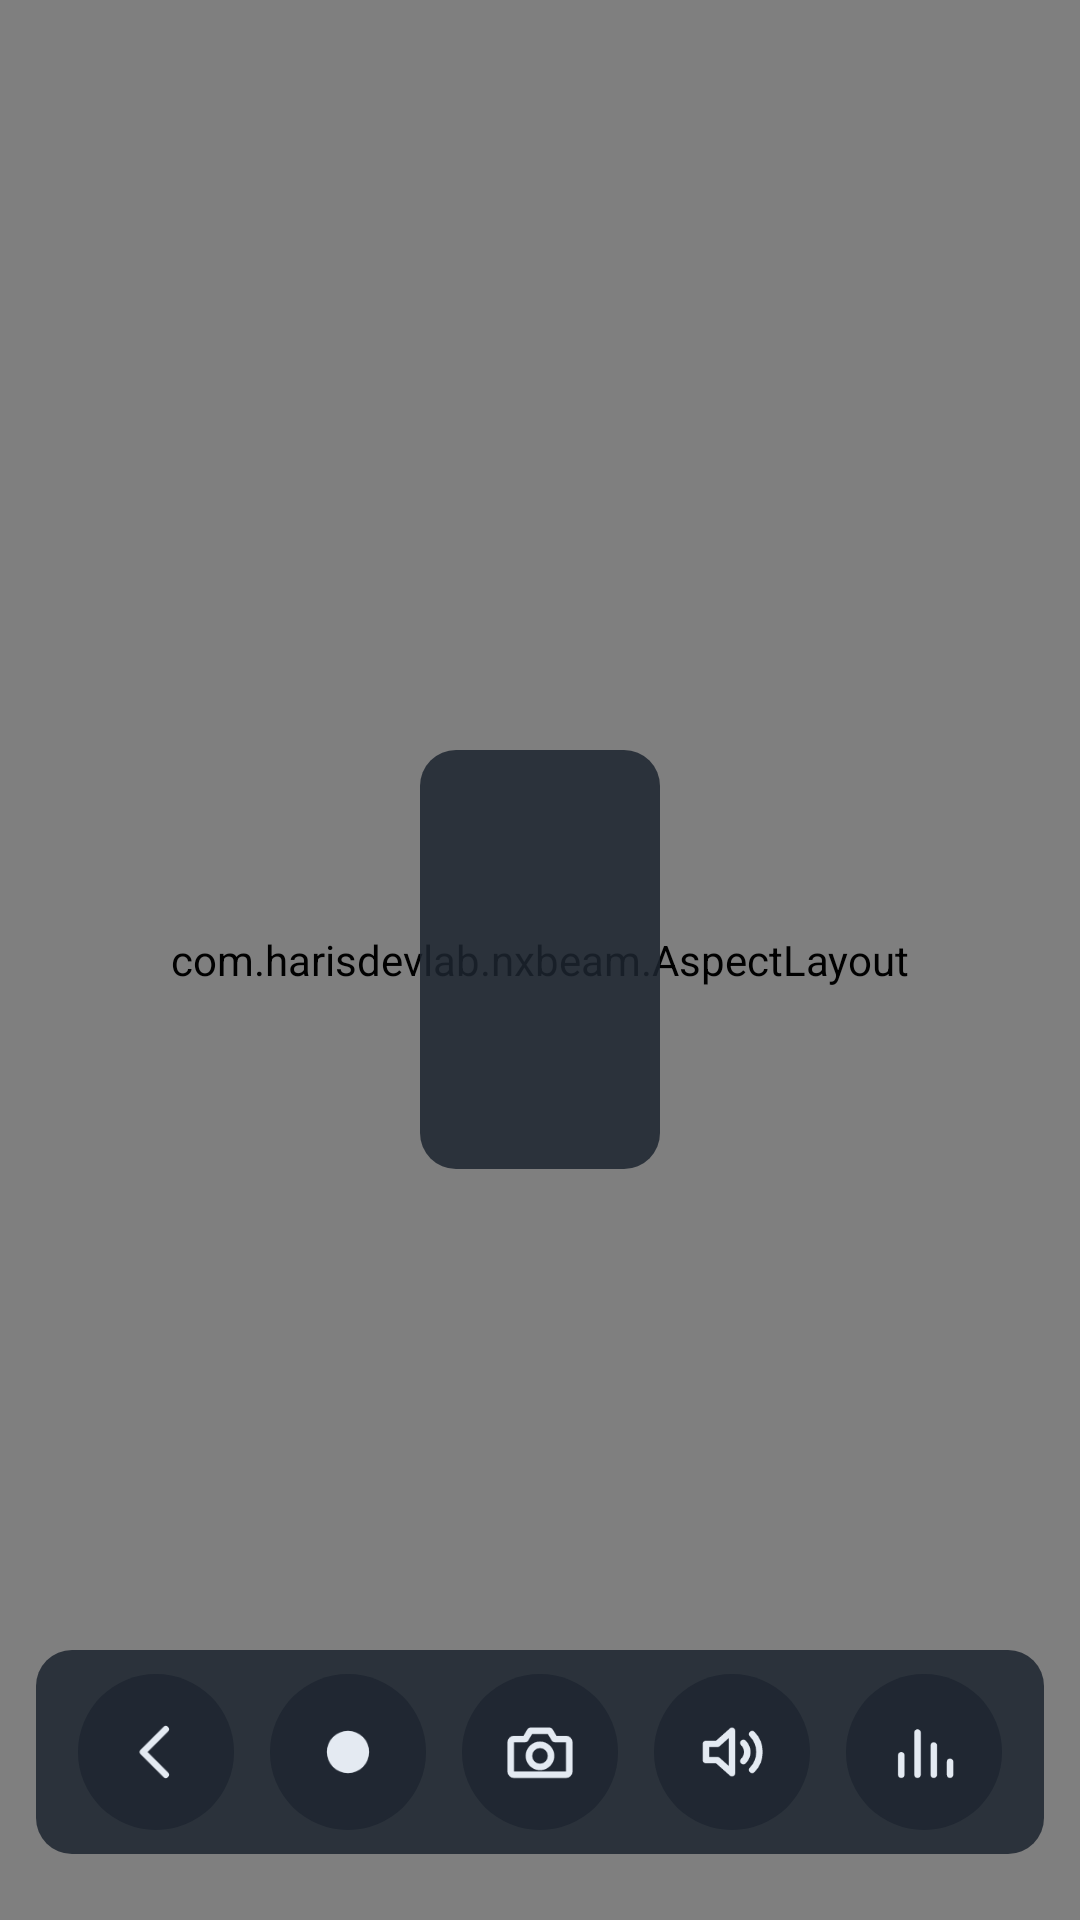

Screen size 1080*1920. Icon name, then its box in pixels as (x1, y1, x2, y2):
Back: (78, 1674, 234, 1830)
Record: (327, 1731, 369, 1773)
Screenshot: (507, 1727, 573, 1779)
Sound: (654, 1674, 810, 1830)
Stats: (846, 1674, 1002, 1830)
